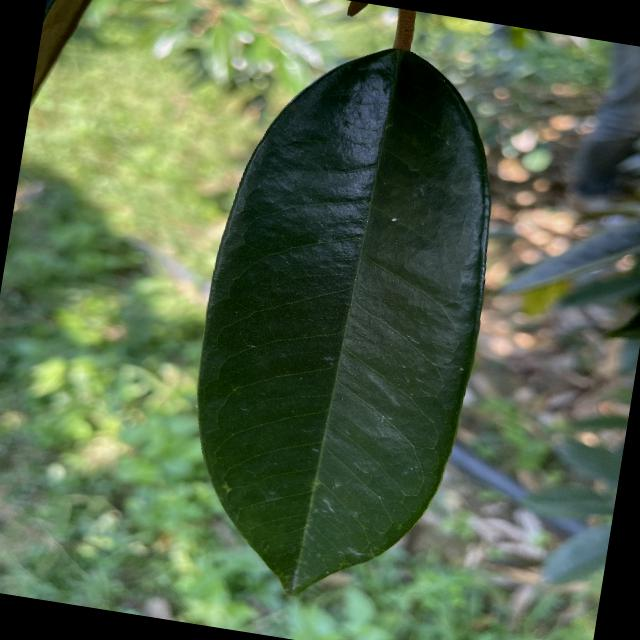No Disease: (157, 10, 537, 632)
